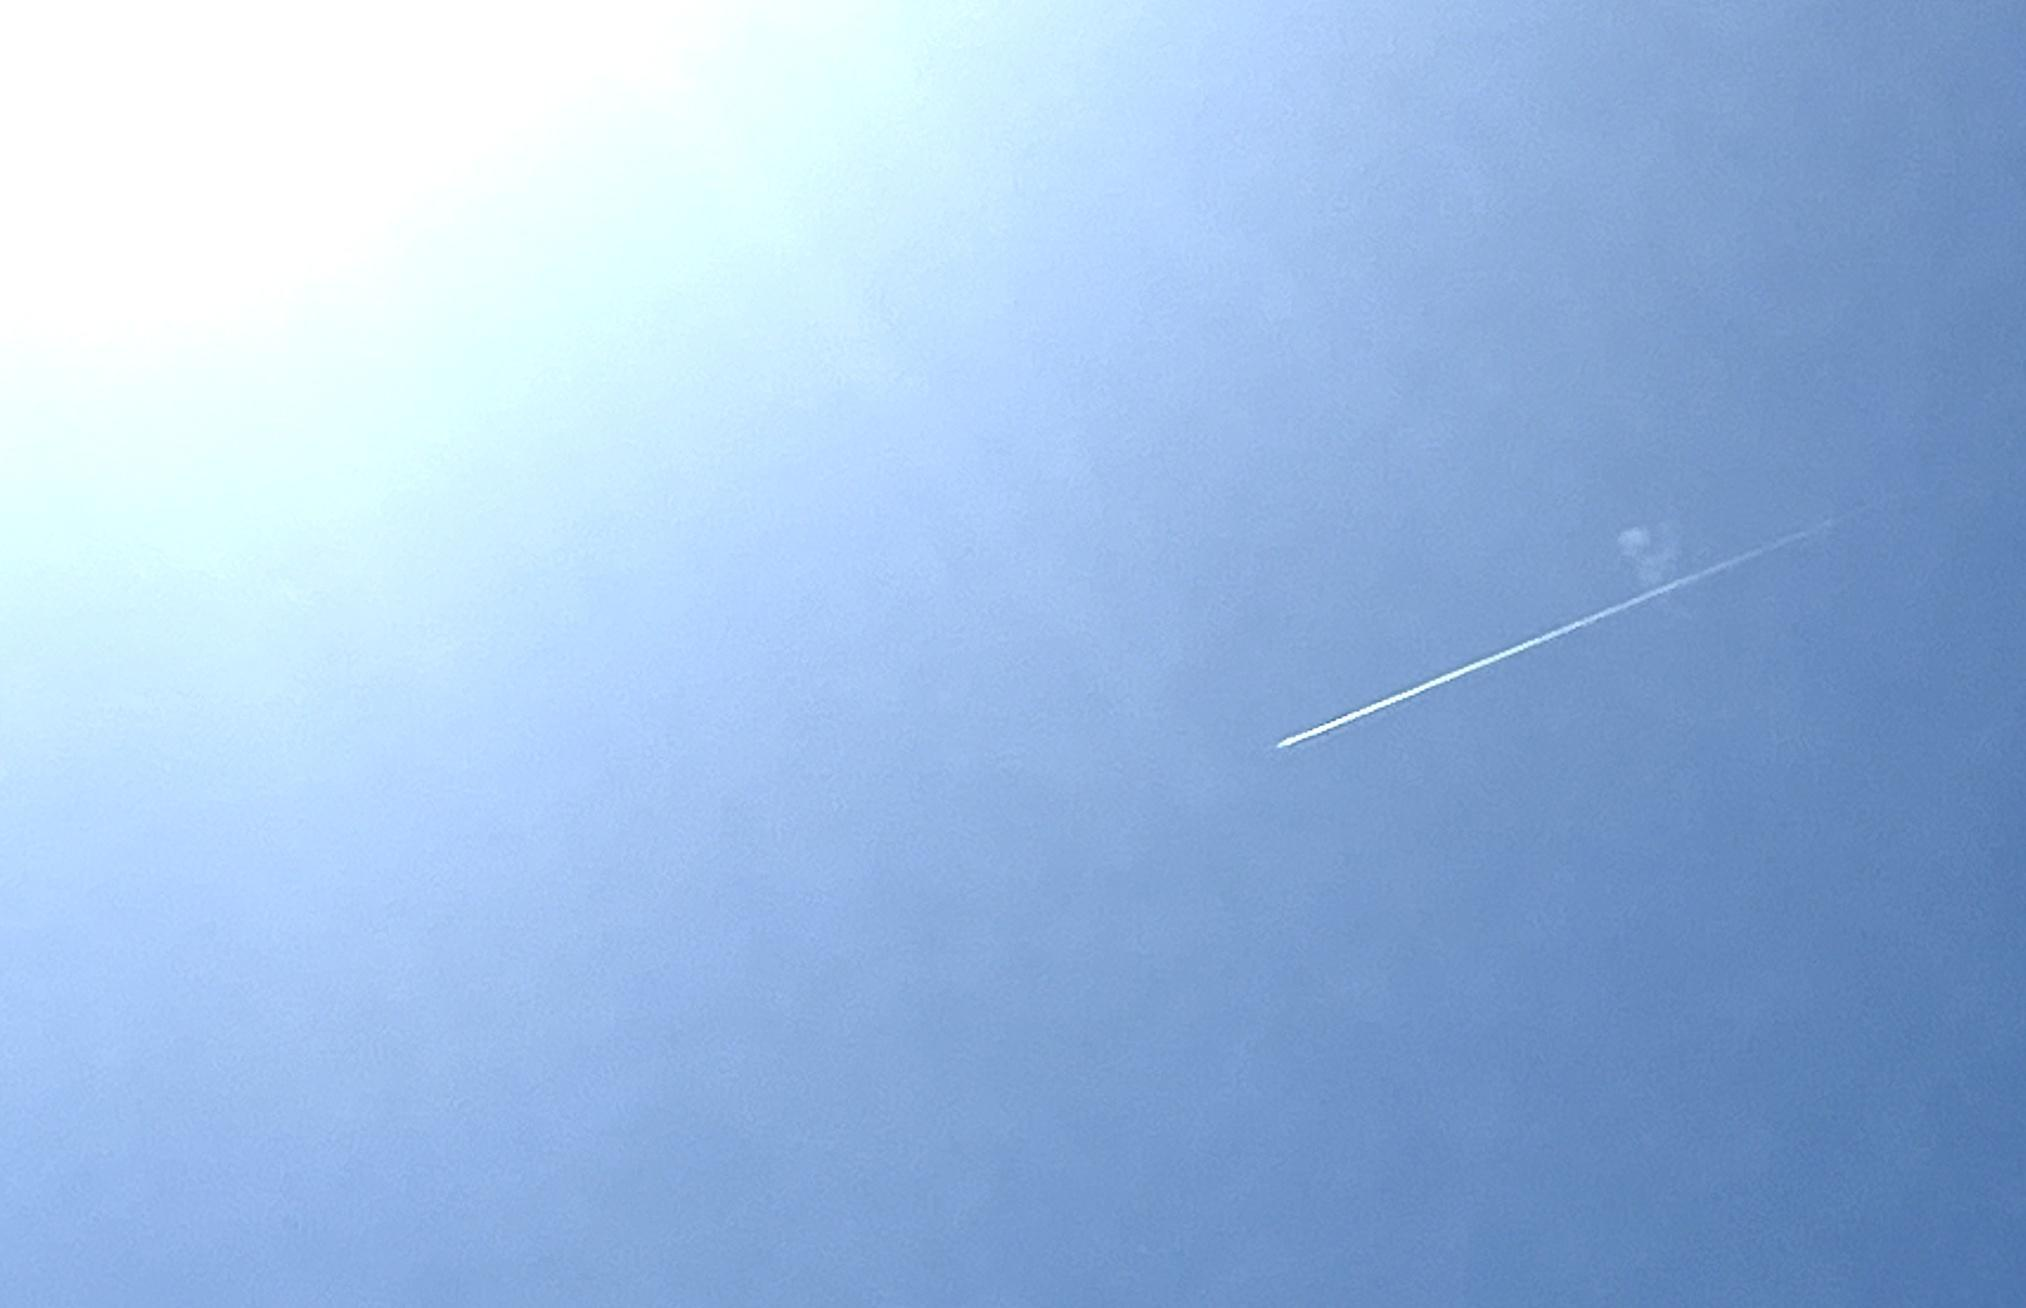Plane: (1251, 622, 1490, 777)
